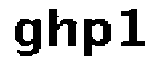1: (118, 7, 150, 52)
g: (10, 14, 42, 57)
h: (47, 6, 78, 49)
p: (81, 15, 115, 60)
